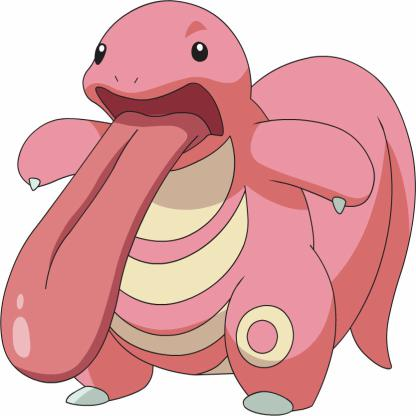Lickitung: (1, 1, 416, 416)
